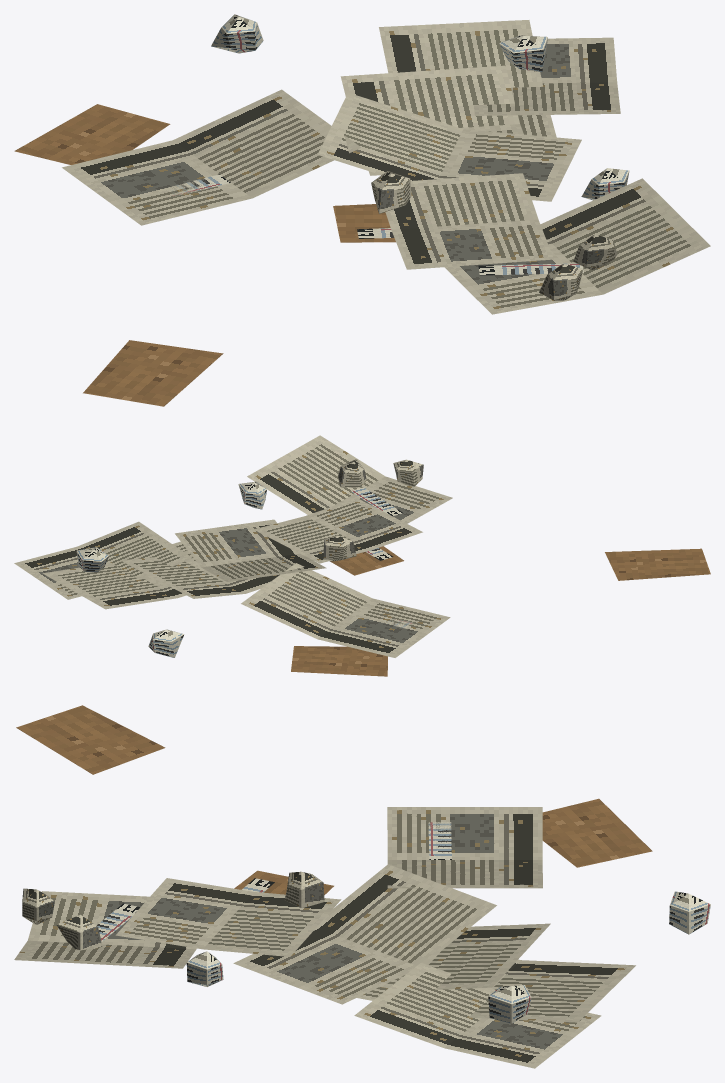
File: newspaper_debris.glb
3 views of the same model, one above another, from view 1: azimuth 30°, elevation 25°; view 2: azimuth 150°, elevation 25°; view 3: azimuth 270°, elevation 25° (orthographic). The views are drawn at different scales.
Parts seen in each view (by area): view 1: Debris; view 2: Debris; view 3: Debris.
Part boxes in pixels (x1=…): Debris: x1=14, y1=14, x2=710, y2=406; Debris: x1=14, y1=435, x2=710, y2=676; Debris: x1=14, y1=705, x2=710, y2=1068.
Bounding box in the file's own units: 1.52 × 0.07 × 1.23.
3 materials, 3 textured.
